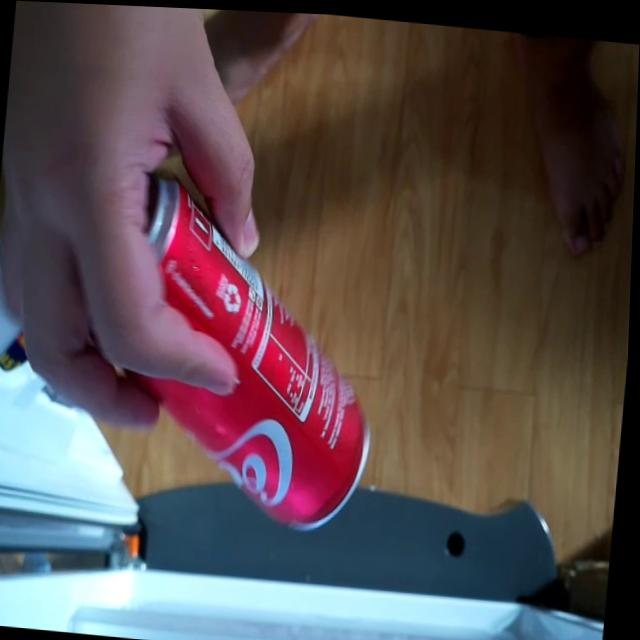coke: (103, 166, 400, 543)
